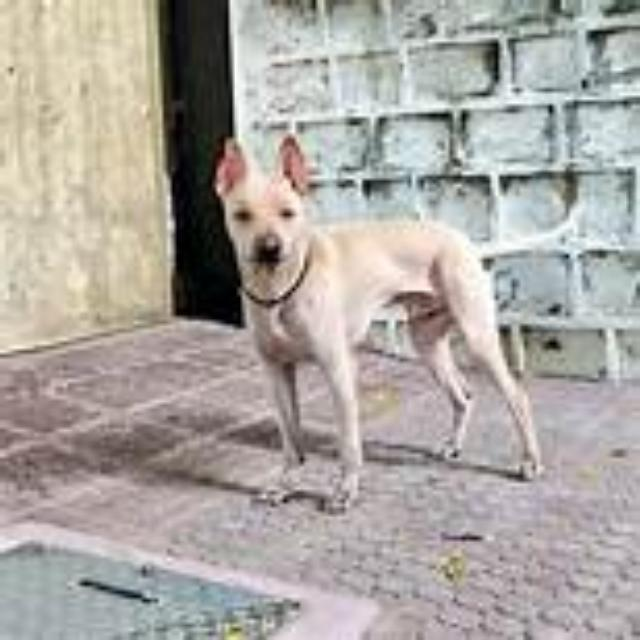dog: (223, 141, 631, 564)
